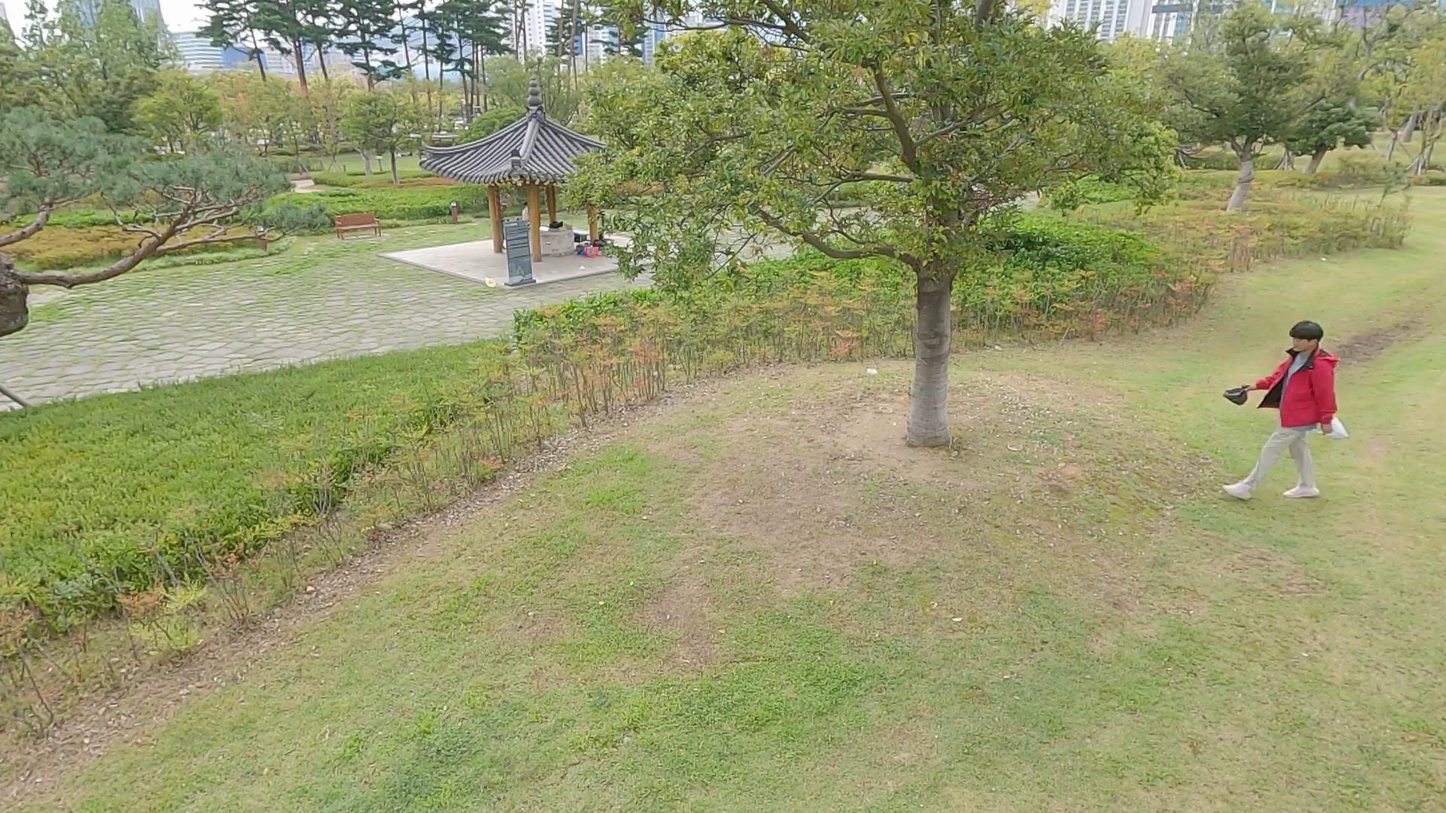person: (1213, 313, 1355, 510)
trash: (1313, 412, 1349, 440), (1222, 379, 1251, 409)
